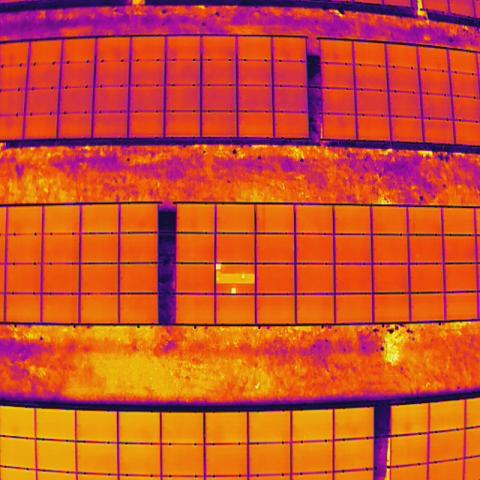fault: (214, 262, 222, 271), (230, 287, 238, 294), (240, 273, 246, 280), (215, 277, 220, 282)
